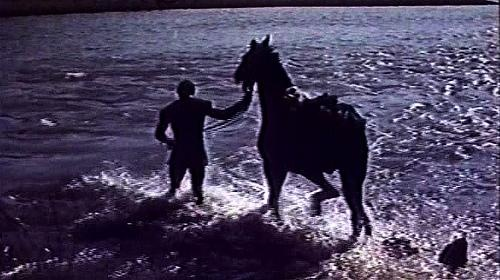person: (154, 80, 254, 208)
